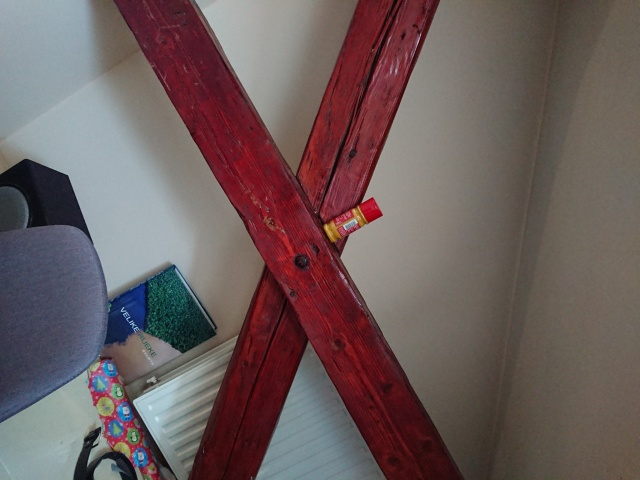Kotanyi Curry Spices Mix 70g: (321, 195, 385, 245)
